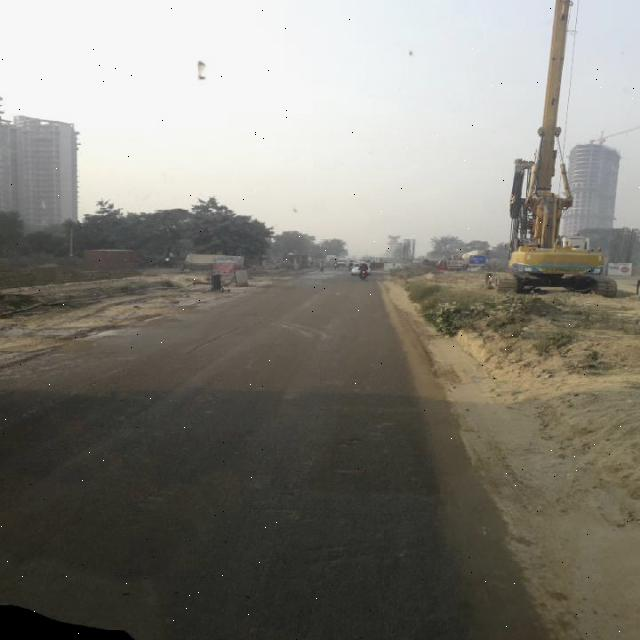D00: (186, 322, 245, 354)
